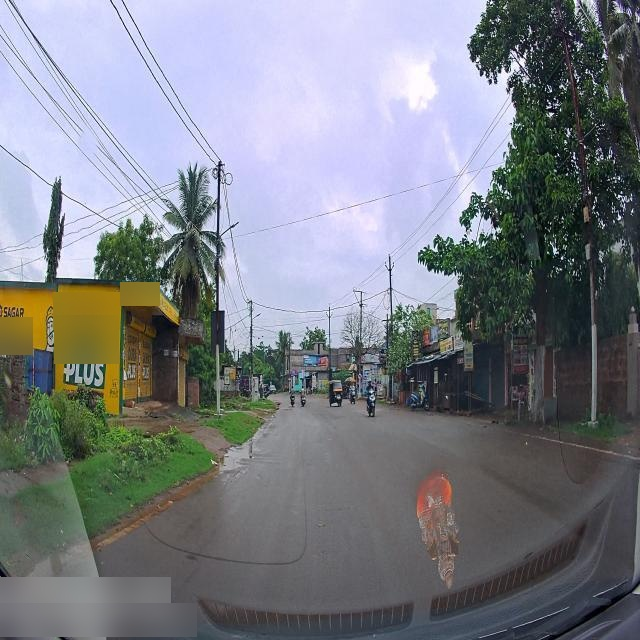pothole: (210, 440, 252, 476)
